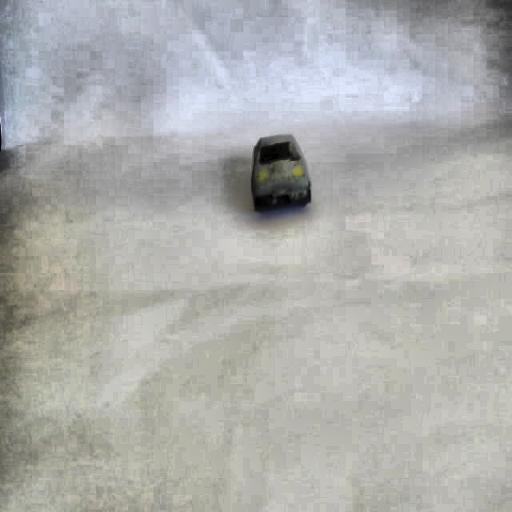normal_car: (246, 132, 313, 216)
